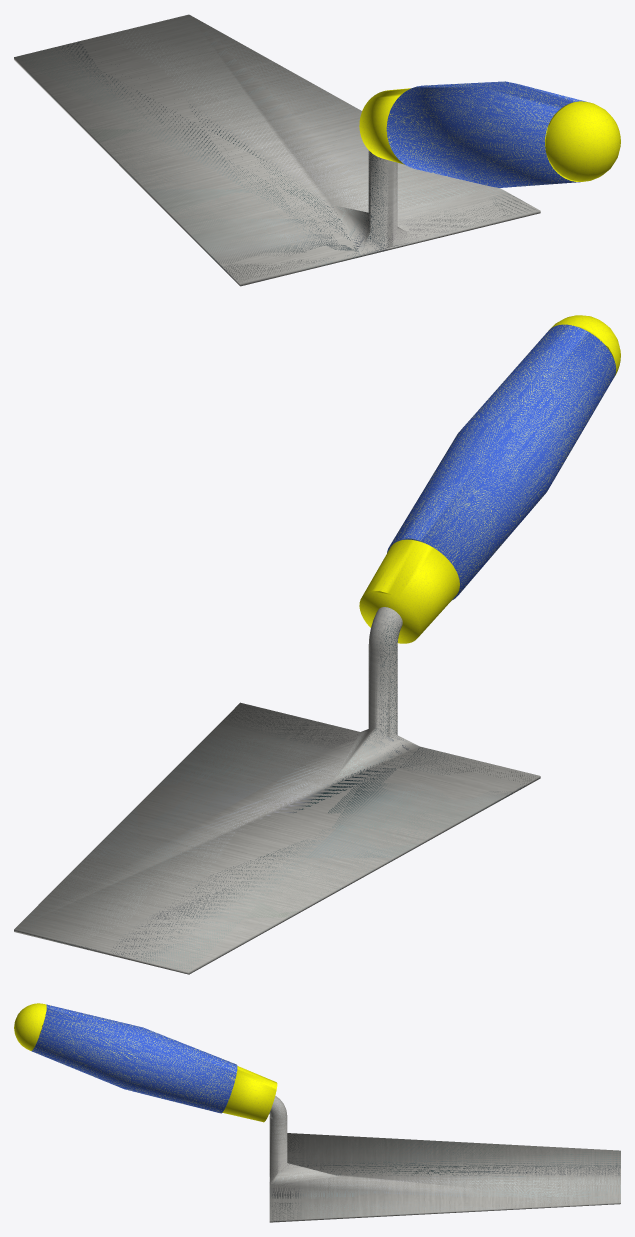
File: trowel_03_origin.dae
3 renders of one model, top to bottom at view 1: azimuth 30°, elevation 25°; view 2: azimuth 150°, elevation 25°; view 3: azimuth 270°, elevation 25°, orthographic. The views are drawn at different scales.
Visible parts, largest first — view 1: Groupe_4, Groupe_3, Groupe_1, Groupe_2; view 2: Groupe_4, Groupe_3, Groupe_2, Groupe_1; view 3: Groupe_4, Groupe_3, Groupe_2, Groupe_1.
Boxes of the visible parts, left/top/right/bottom form: Groupe_4: left=14, top=14, right=540, bottom=286; Groupe_3: left=386, top=81, right=586, bottom=187; Groupe_1: left=545, top=101, right=620, bottom=181; Groupe_2: left=359, top=88, right=410, bottom=164; Groupe_4: left=14, top=607, right=540, bottom=974; Groupe_3: left=387, top=324, right=616, bottom=600; Groupe_2: left=359, top=539, right=459, bottom=643; Groupe_1: left=548, top=315, right=620, bottom=375; Groupe_4: left=269, top=1096, right=620, bottom=1222; Groupe_3: left=31, top=1004, right=237, bottom=1113; Groupe_2: left=222, top=1066, right=277, bottom=1122; Groupe_1: left=14, top=1003, right=46, bottom=1050.
Size of the model in its own units: 4.72 by 13.61 by 4.27.
6 materials, 2 textured.
